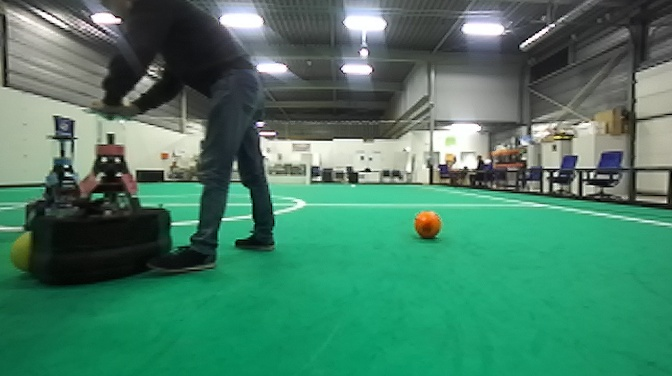ball: (409, 208, 446, 243), (7, 230, 35, 273)
goal: (264, 158, 312, 189)
goalpost: (303, 158, 310, 187)
human: (79, 1, 279, 277)
robot: (26, 103, 176, 294), (21, 112, 88, 237)
